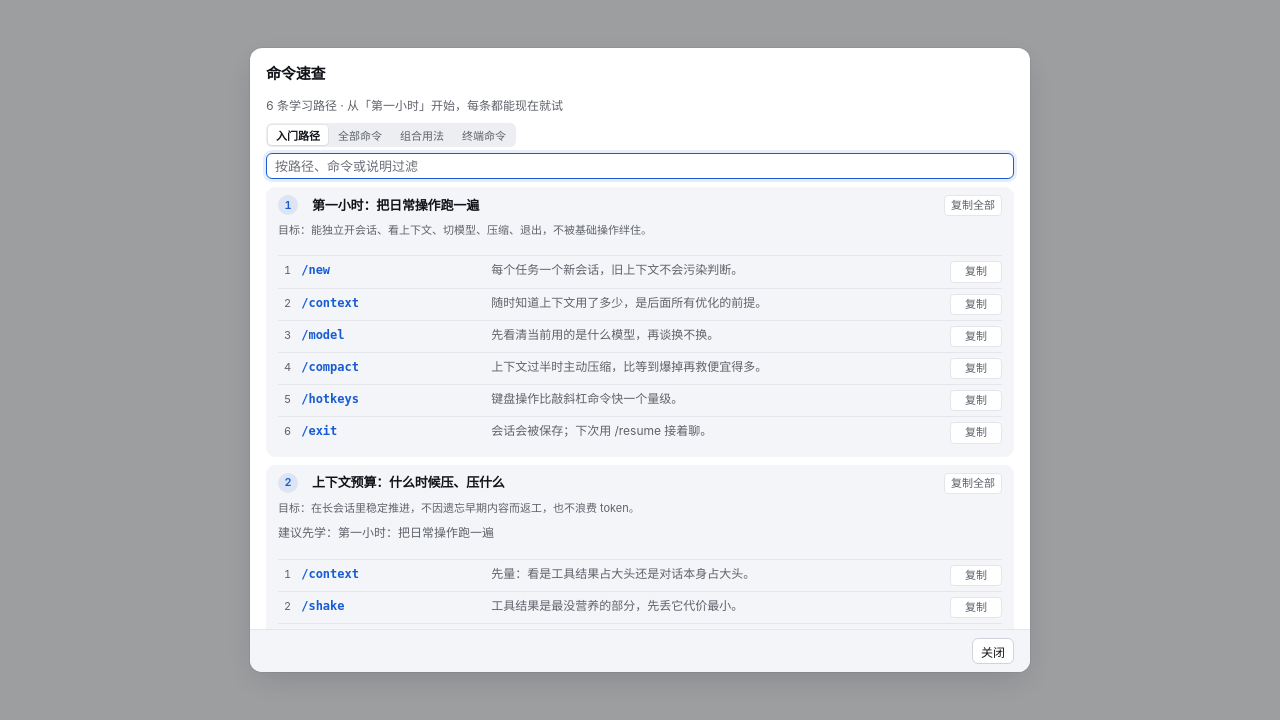
常用分组 › 空查询时顶部显示常用分组，过滤时隐藏且不重复行
The image size is (1280, 720).
Click the tab "全部命令" at coordinates (360, 135), box [330,125,390,145]
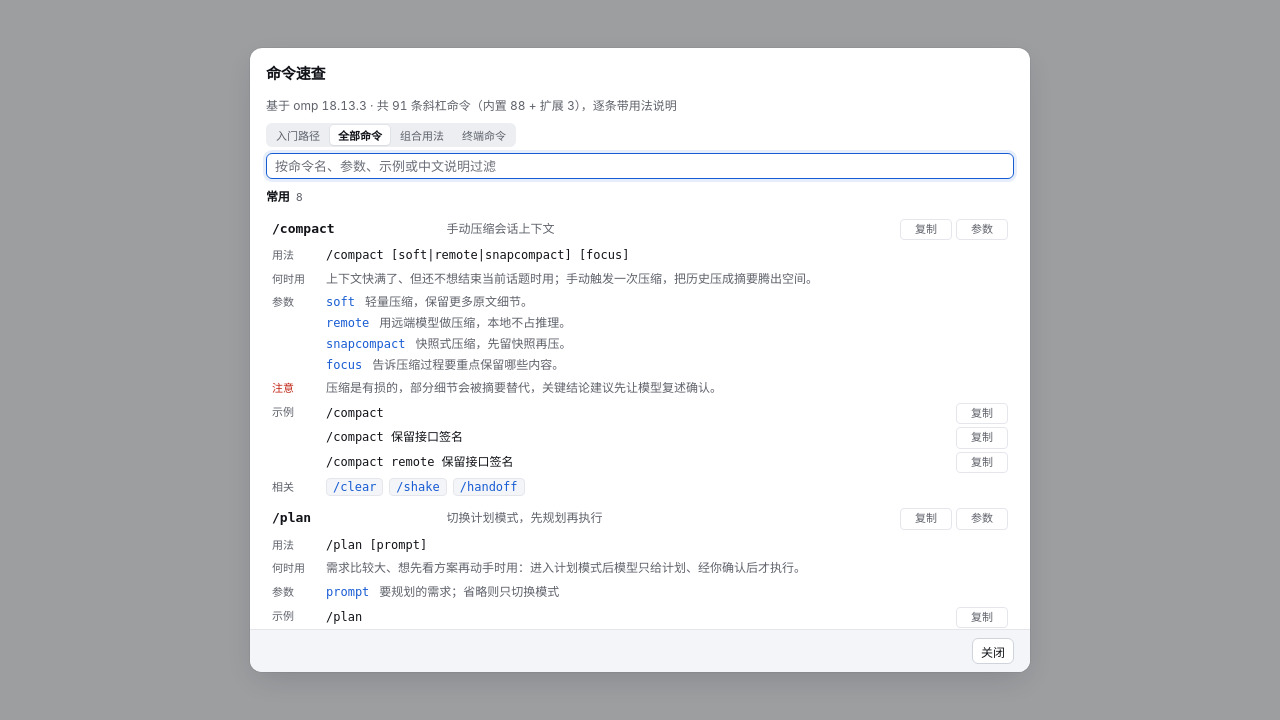
Expected: the heading with class "cheatsheet-group-title" shows "常用", [266,185,1014,209]
Type "compact" into the search field named "过滤命令" at coordinates (640, 166), box [266,153,1014,179]
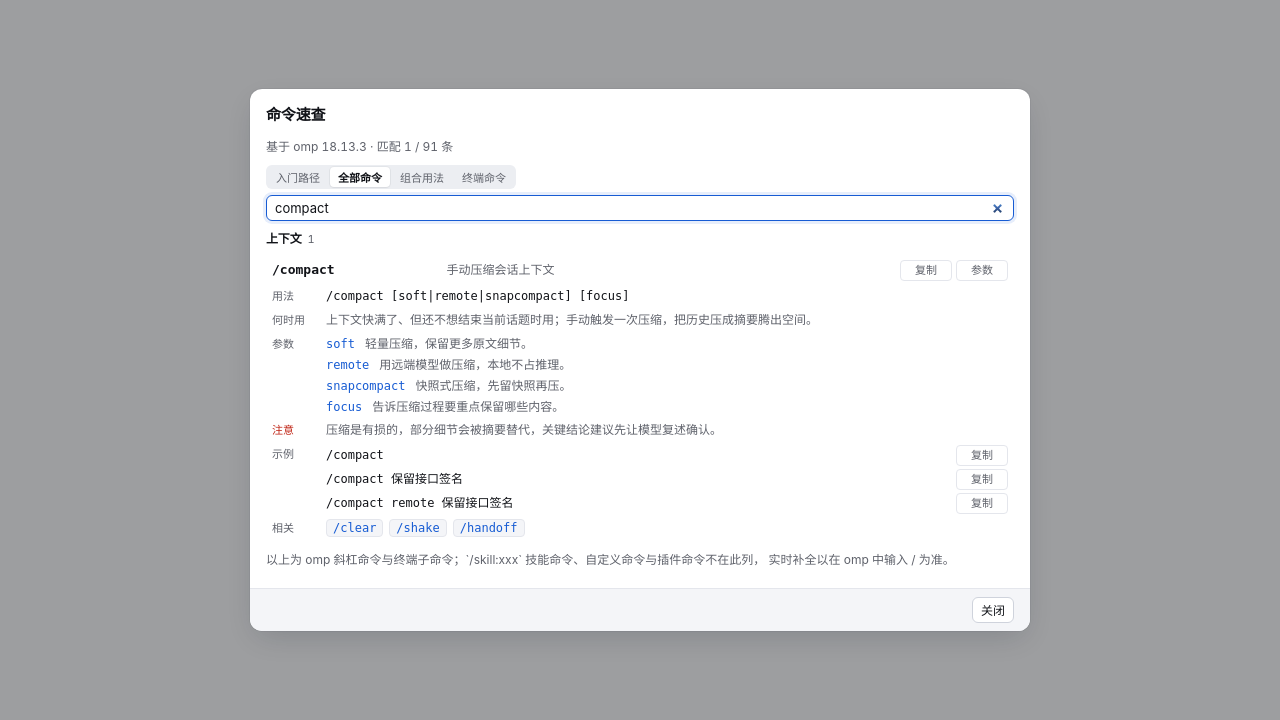
Expected: the heading "常用" is gone
